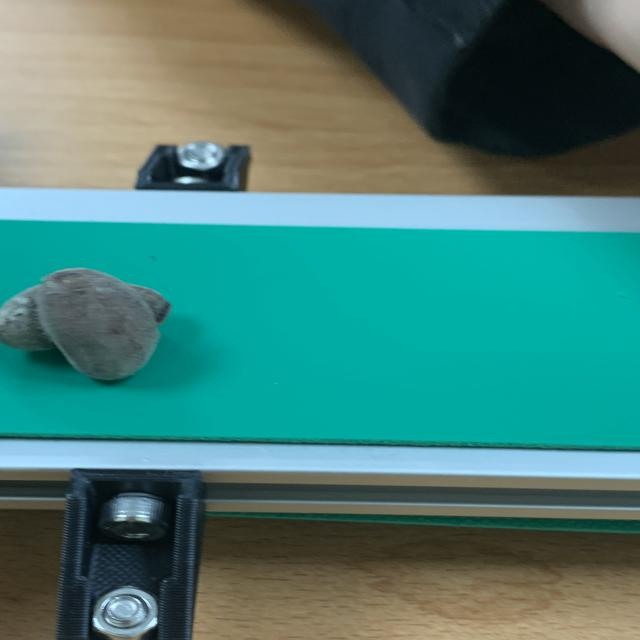Agglomerated_cocoabeans: (0, 242, 261, 424)
